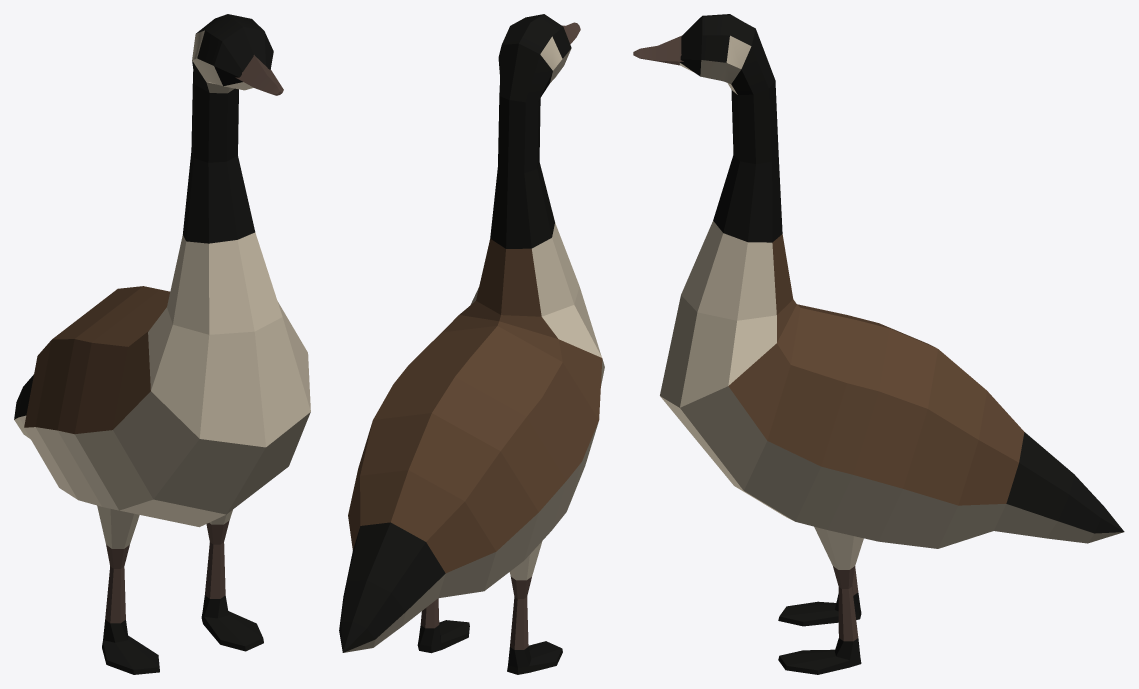
Rendered from Mesh_Goose.obj.
3 renders of one model, left to right at view 1: azimuth 30°, elevation 25°; view 2: azimuth 150°, elevation 25°; view 3: azimuth 270°, elevation 25°, orthographic. The views are drawn at different scales.
Parts seen in each view (by area): view 1: Geo_Goose; view 2: Geo_Goose; view 3: Geo_Goose.
Boxes of the visible parts, x1,y1,x2,y2 form: Geo_Goose: [14, 14, 310, 674]; Geo_Goose: [339, 14, 604, 674]; Geo_Goose: [633, 14, 1124, 674].
Size of the model in its own units: 25.47 by 76.94 by 54.8.
1 material, 1 textured.
